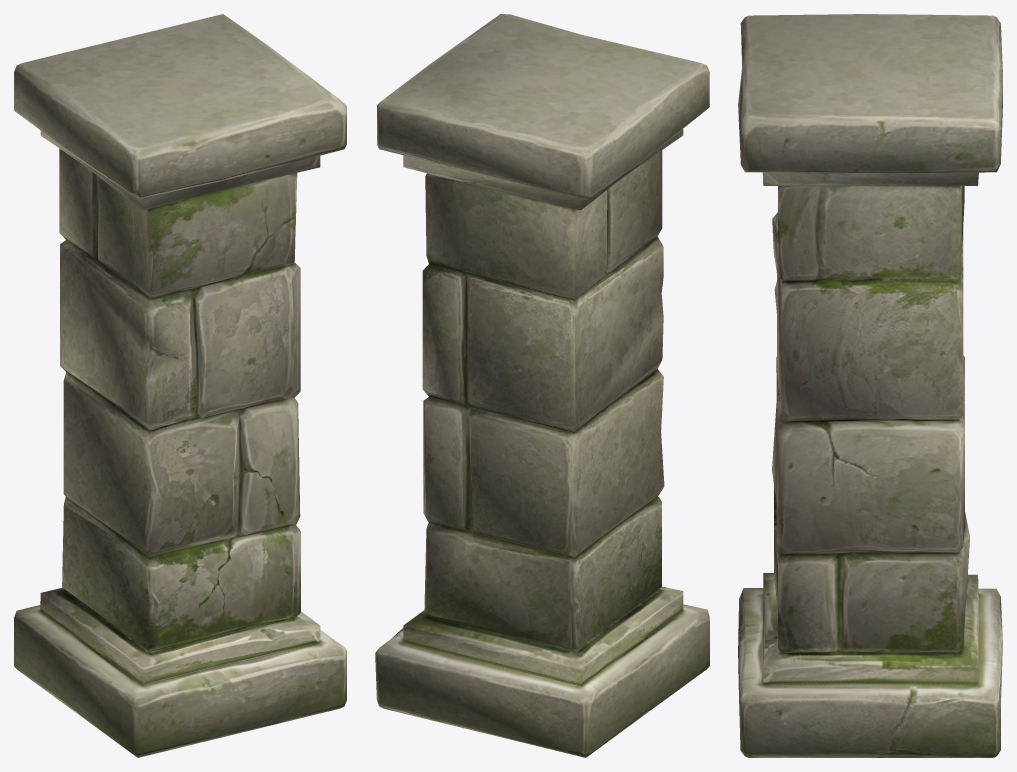
The model's file is pilastro.glb.
3 renders of one model, left to right at view 1: azimuth 30°, elevation 25°; view 2: azimuth 150°, elevation 25°; view 3: azimuth 270°, elevation 25°, orthographic. The views are drawn at different scales.
Parts seen in each view (by area): view 1: pilastro; view 2: pilastro; view 3: pilastro.
Part boxes in pixels (box(x1,y1,x2,y2)): pilastro: box(14, 14, 346, 757); pilastro: box(375, 14, 709, 757); pilastro: box(738, 14, 1002, 757).
Bounding box in the file's own units: 0.3794 × 0.9995 × 0.3745.
Materials: 1 (1 with a texture image).
